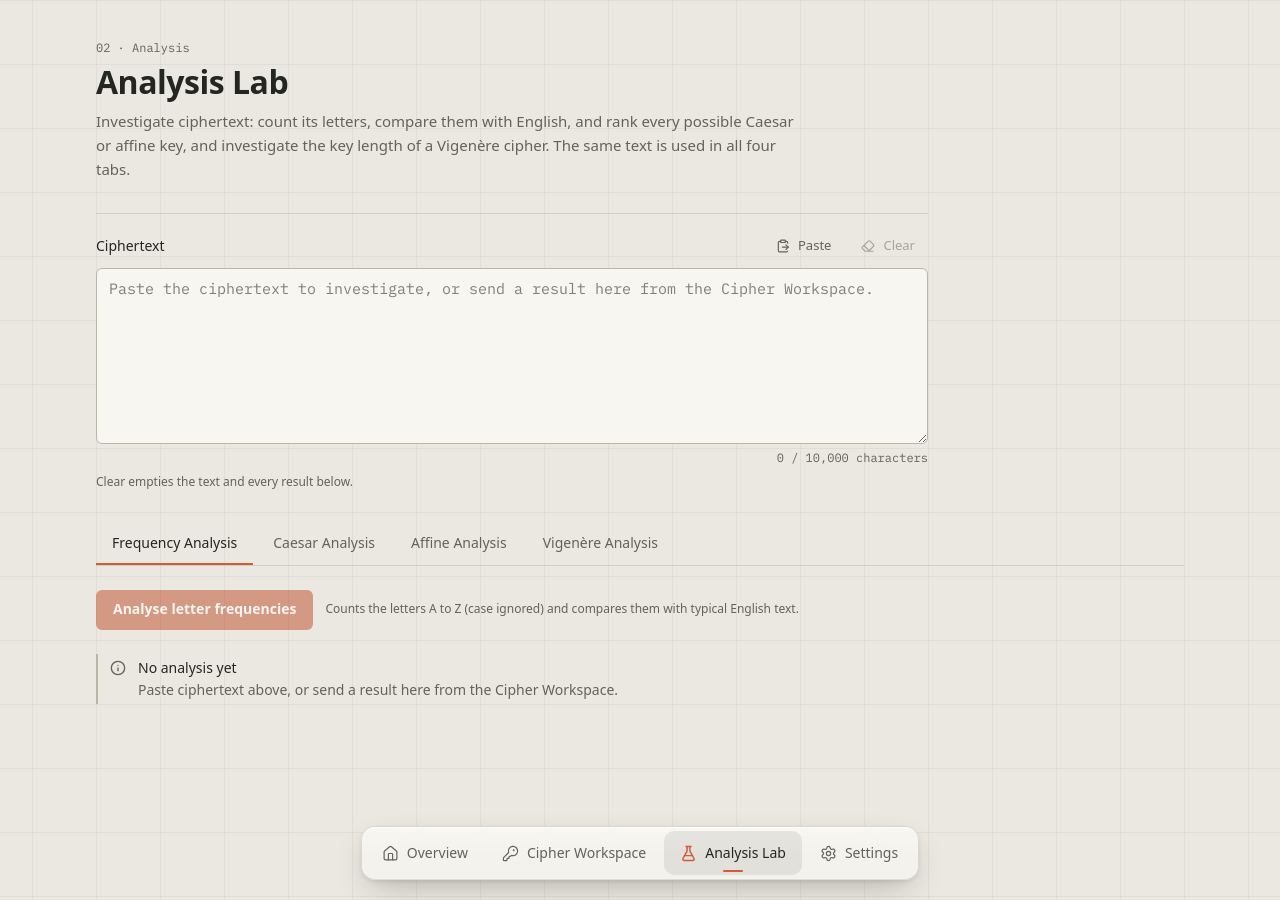
Test: the Vigenère tab › does not run anything until asked
Click the tab "Vigenère Analysis".
click(600, 544)  # box x1=527 y1=523 x2=674 y2=565
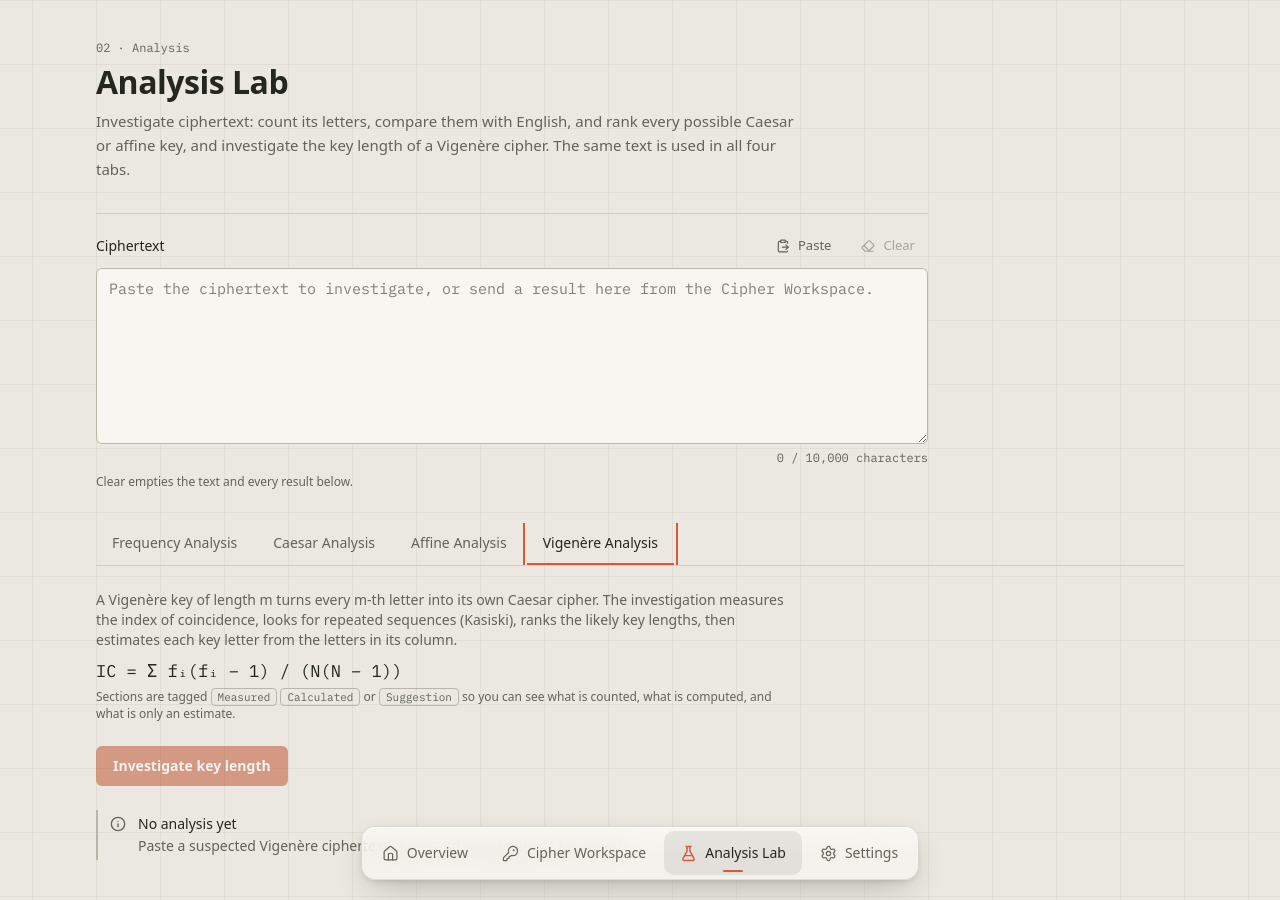
Clear the text box labelled "Ciphertext" at (512, 356), box x1=96 y1=268 x2=928 y2=444
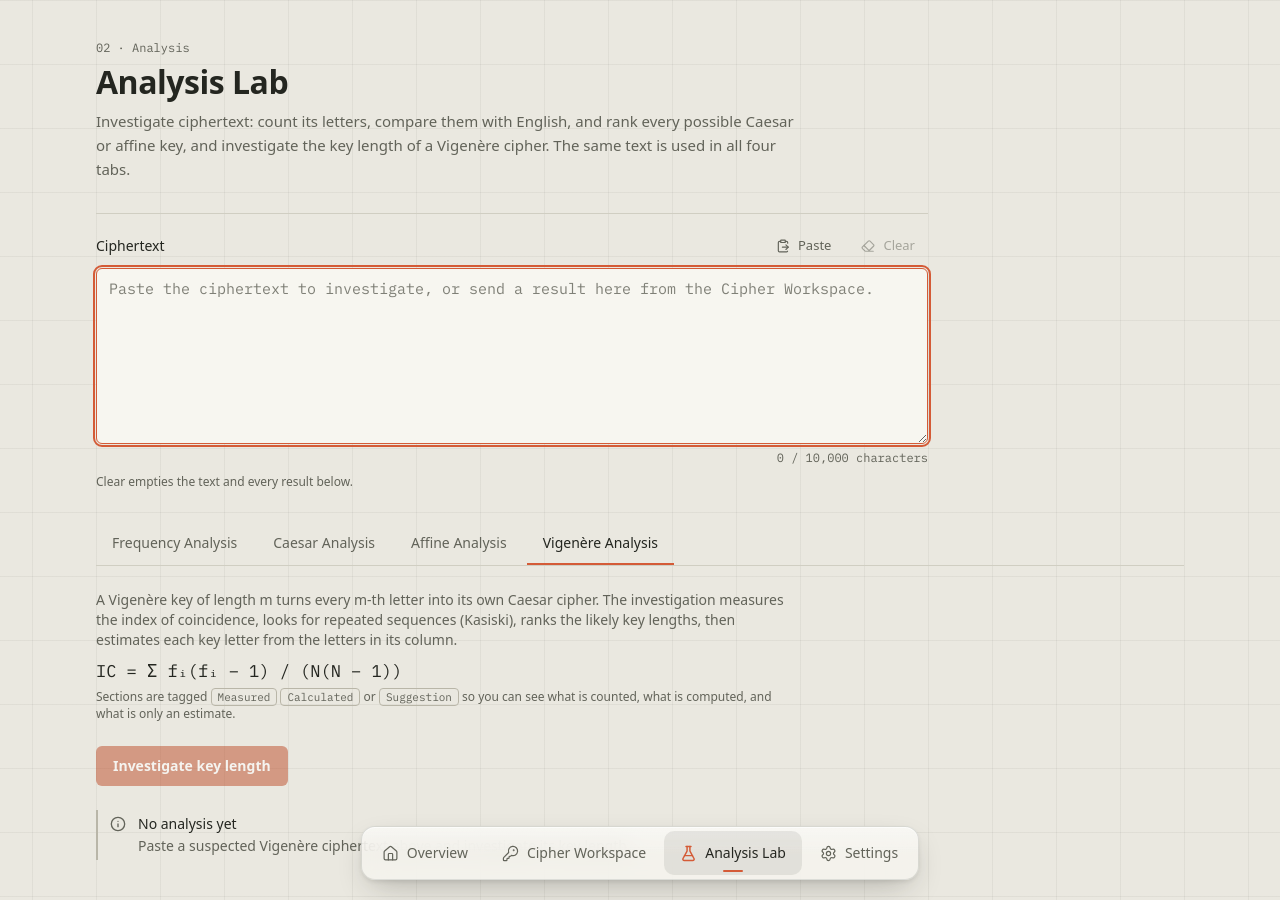
Type keys "Lxfopv ef Rnhr lxfopv ef rnhr"
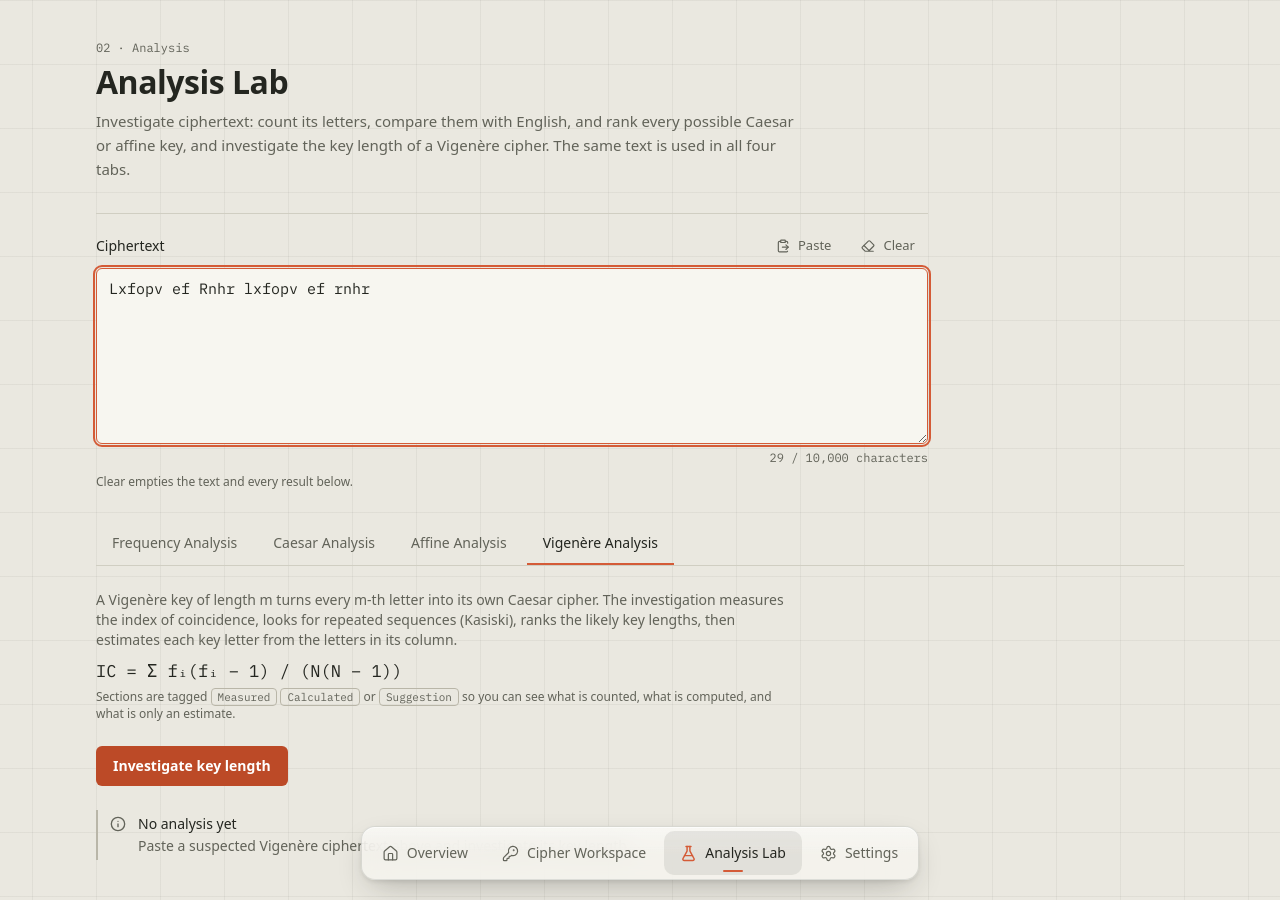
expect the button "Investigate key length" is enabled: met, box x1=96 y1=746 x2=288 y2=786
